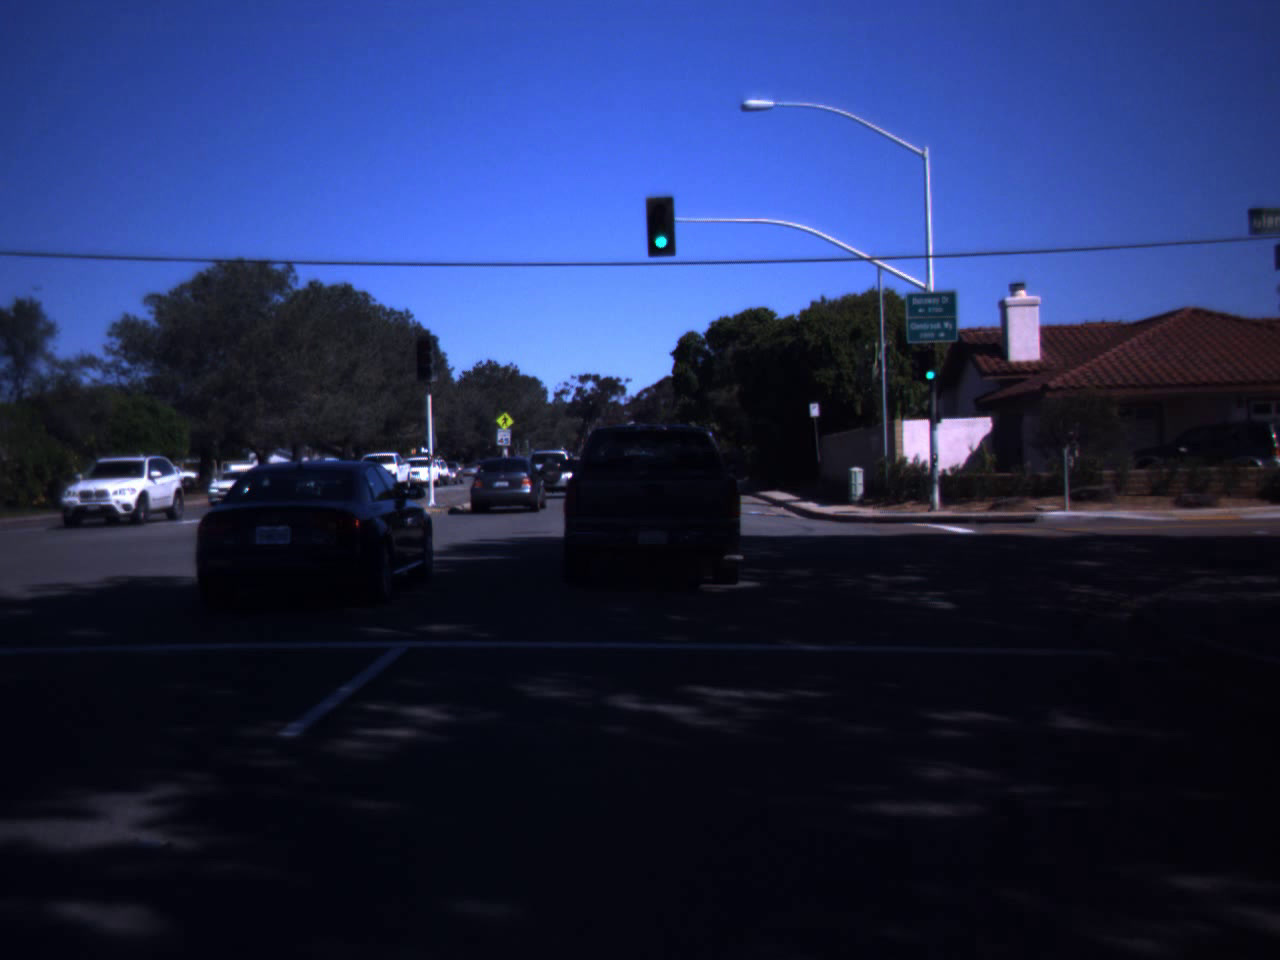go: (646, 194, 676, 249), (923, 351, 938, 381)
